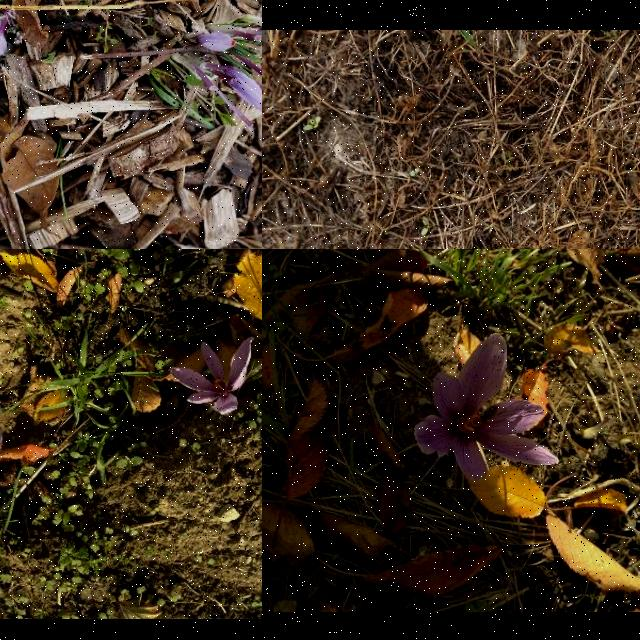flower: (414, 333, 560, 481), (168, 335, 254, 415), (226, 70, 262, 112), (194, 32, 236, 54), (0, 36, 8, 56)
